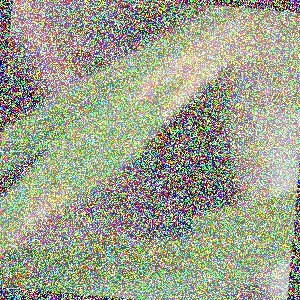Brown_Spot: (131, 15, 273, 129), (1, 171, 81, 255)
